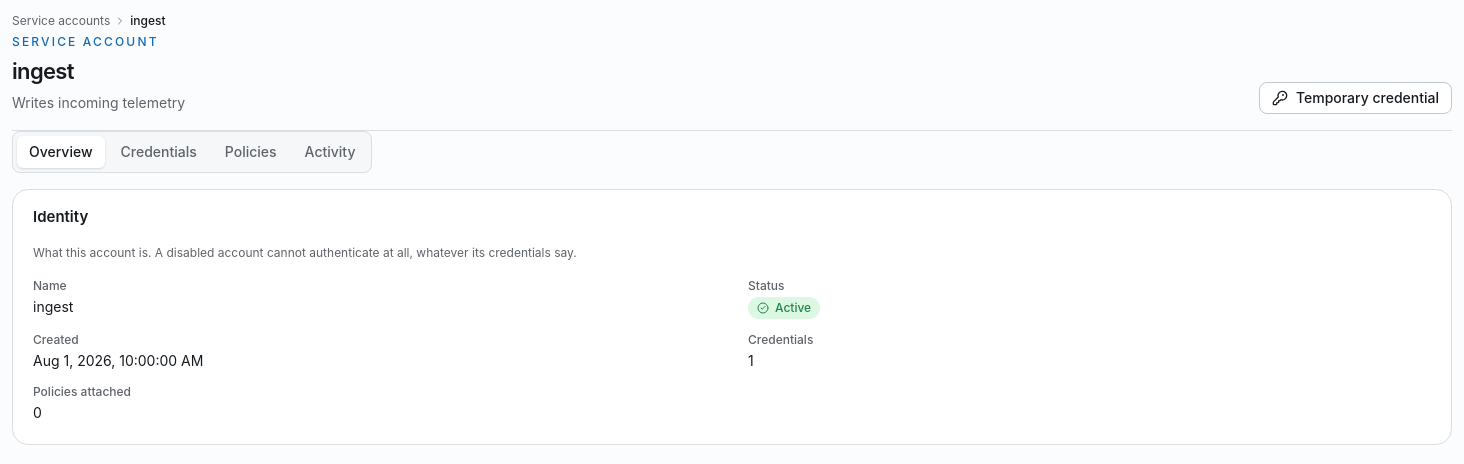
Test case: ServiceAccountDetail › says an account with no policies is authorised for nothing
The image size is (1464, 464).
Click the tab "Policies".
click(251, 152)  # box [213, 136, 289, 168]
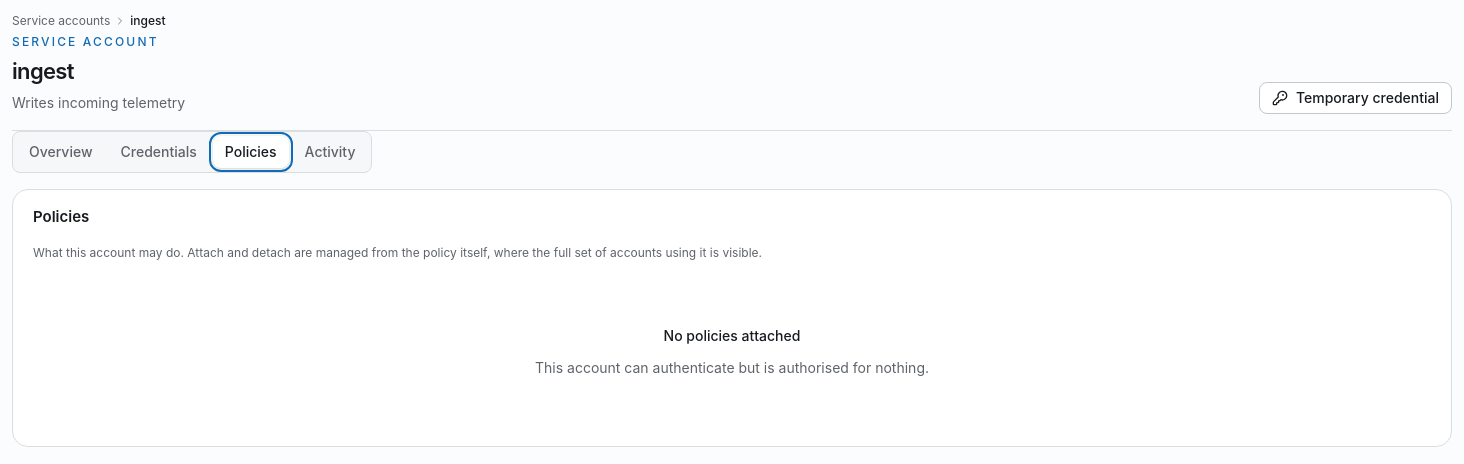
Expected: the text "This account can authenticate but is authorised for nothing." is shown, [535, 358, 929, 378]
